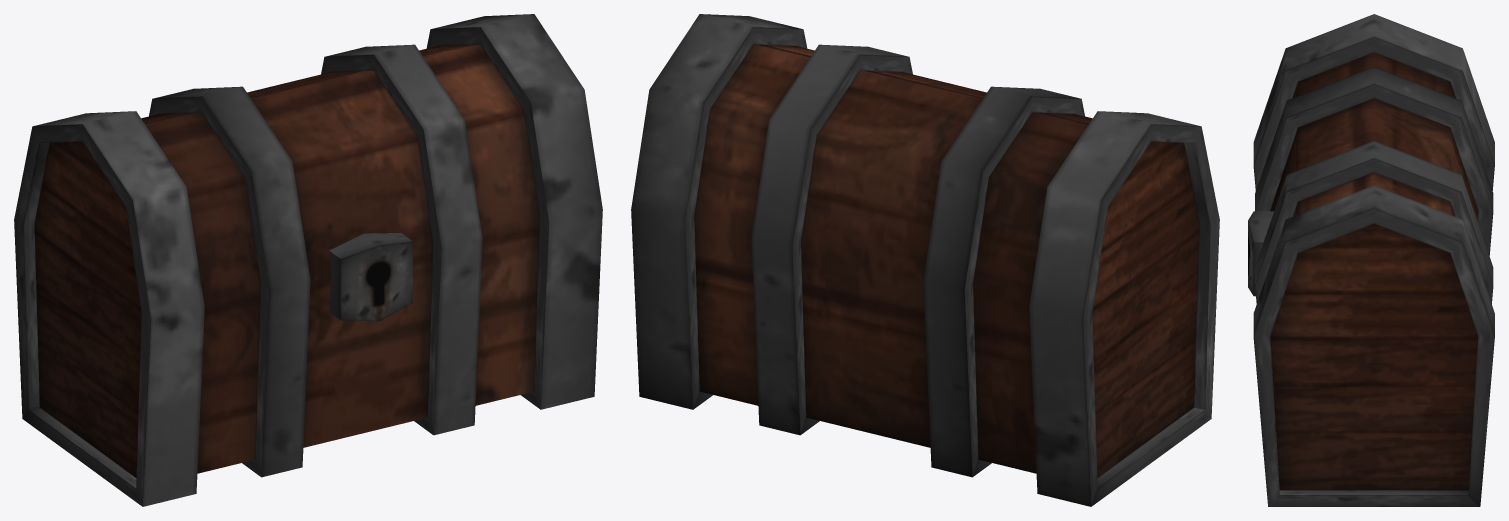
Rendered from Chest0.fbx.
The picture shows the model from 3 angles, left to right: view 1: azimuth 30°, elevation 25°; view 2: azimuth 150°, elevation 25°; view 3: azimuth 270°, elevation 25°; orthographic projection. The views are drawn at different scales.
Visible parts, largest first — view 1: Cube.001; view 2: Cube.001; view 3: Cube.001.
Boxes of the visible parts, x1,y1,x2,y2 form: Cube.001: (14,14,602,506); Cube.001: (631,14,1219,506); Cube.001: (1248,14,1494,506).
Bounding box in the file's own units: 275 × 197 × 147.
